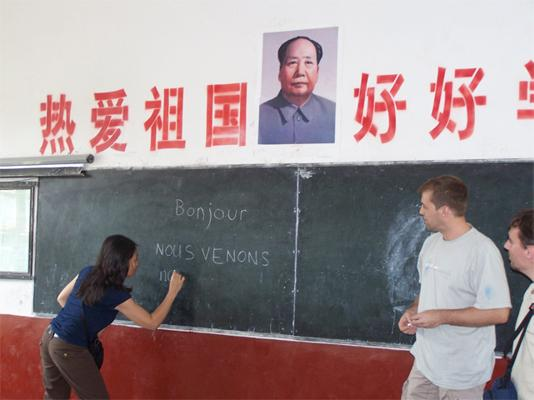person: (39, 234, 184, 400)
